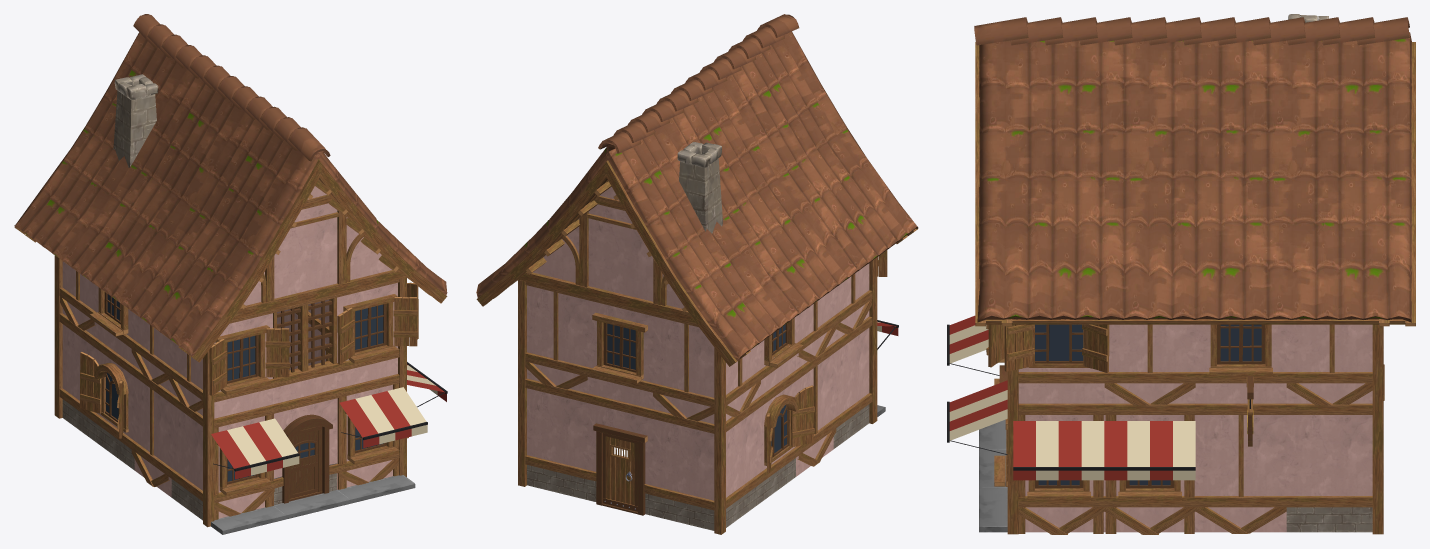
Rendered from corner_shop.glb.
The picture shows the model from 3 angles, left to right: view 1: azimuth 30°, elevation 25°; view 2: azimuth 150°, elevation 25°; view 3: azimuth 270°, elevation 25°; orthographic projection. The views are drawn at different scales.
Parts seen in each view (by area): view 1: Roof_RoundTiles_6x8.056, Roof_Front_Brick6.057, Wall_Plaster_WoodGrid+upper.032, Wall_Plaster_Straight.017, Wall_Plaster_Straight_Base.018, Wall_Plaster_Window_Wide_Flat2.006, Prop_Chimney.059, Wall_Plaster_Straight_Base.013, Wall_Plaster_Window_Wide_Flat2.001, Window_Wide_Flat1.034, Window_Wide_Flat1.030, Wall_Plaster_Window_Wide_Flat+upper.033 (+27 smaller); view 2: Roof_RoundTiles_6x8.056, Roof_Front_Brick6.058, Wall_Plaster_Straight_Base.008, Wall_Plaster_Straight_Base.012, Wall_Plaster_Straight+upper.036, Wall_Plaster_Straight+upper.039, Wall_Plaster_Straight_Base.018, Wall_Plaster_Window_Wide_Flat+upper.037, Wall_Plaster_Straight_Base.013, Wall_Plaster_Door_Flat.009, Wall_Plaster_Straight.017, Prop_Chimney.059 (+16 smaller); view 3: Roof_RoundTiles_6x8.056, Wall_Plaster_Straight.023, Wall_Plaster_Straight_Base.024, Wall_Plaster_Straight+upper.048, Wall_Plaster_Straight+upper.051, Awning.070, Wall_Plaster_Window_Wide_Flat2.021, Awning.071, Wall_Plaster_Window_Wide_Flat2.019, Wall_Plaster_Window_Wide_Flat+upper.049, Window_Wide_Flat1.050, Wall_Plaster_Window_Wide_Round+upper.045 (+16 smaller).
Part boxes in pixels (box(x1,y1,x2,y2)): Roof_RoundTiles_6x8.056: box(14, 14, 447, 362); Roof_Front_Brick6.057: box(232, 181, 406, 319); Wall_Plaster_WoodGrid+upper.032: box(273, 294, 338, 404); Wall_Plaster_Straight.017: box(131, 366, 171, 497); Wall_Plaster_Straight_Base.018: box(168, 393, 202, 520); Wall_Plaster_Window_Wide_Flat2.006: box(337, 374, 399, 489); Prop_Chimney.059: box(113, 74, 158, 167); Wall_Plaster_Straight_Base.013: box(59, 313, 97, 443); Wall_Plaster_Window_Wide_Flat2.001: box(214, 404, 274, 520); Window_Wide_Flat1.034: box(343, 294, 398, 363); Window_Wide_Flat1.030: box(215, 325, 270, 394); Wall_Plaster_Window_Wide_Flat+upper.033: box(337, 279, 399, 388); Roof_RoundTiles_6x8.056: box(476, 14, 918, 366); Roof_Front_Brick6.058: box(517, 181, 695, 323); Wall_Plaster_Straight_Base.008: box(525, 378, 589, 500); Wall_Plaster_Straight_Base.012: box(652, 409, 714, 530); Wall_Plaster_Straight+upper.036: box(525, 282, 589, 393); Wall_Plaster_Straight+upper.039: box(652, 313, 714, 423); Wall_Plaster_Straight_Base.018: box(833, 316, 872, 448); Wall_Plaster_Window_Wide_Flat+upper.037: box(587, 297, 654, 409); Wall_Plaster_Straight_Base.013: box(726, 398, 760, 527); Wall_Plaster_Door_Flat.009: box(587, 393, 654, 516); Wall_Plaster_Straight.017: box(796, 342, 836, 476); Prop_Chimney.059: box(677, 142, 722, 233); Roof_RoundTiles_6x8.056: box(974, 17, 1415, 326); Wall_Plaster_Straight.023: box(1195, 403, 1286, 533); Wall_Plaster_Straight_Base.024: box(1286, 403, 1372, 532); Wall_Plaster_Straight+upper.048: box(1104, 324, 1195, 405); Wall_Plaster_Straight+upper.051: box(1286, 324, 1372, 405); Awning.070: box(1013, 421, 1172, 480); Wall_Plaster_Window_Wide_Flat2.021: box(1104, 403, 1195, 534); Awning.071: box(1036, 421, 1195, 480); Wall_Plaster_Window_Wide_Flat2.019: box(1018, 403, 1104, 534); Wall_Plaster_Window_Wide_Flat+upper.049: box(1195, 324, 1286, 403); Window_Wide_Flat1.050: box(1209, 324, 1272, 376); Wall_Plaster_Window_Wide_Round+upper.045: box(1018, 367, 1104, 403).
Bounding box in the file's own units: 8.57 × 11.03 × 10.28.
Materials: 11 (6 with a texture image).
